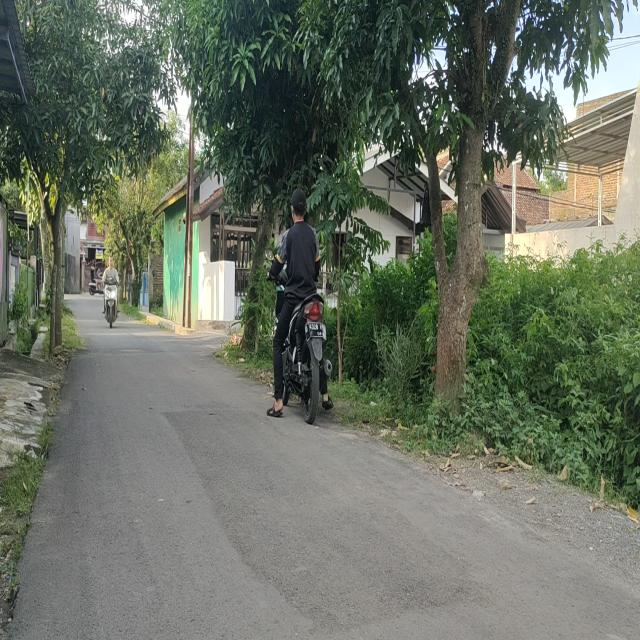no-helmet: (290, 185, 308, 225), (108, 255, 115, 270)
